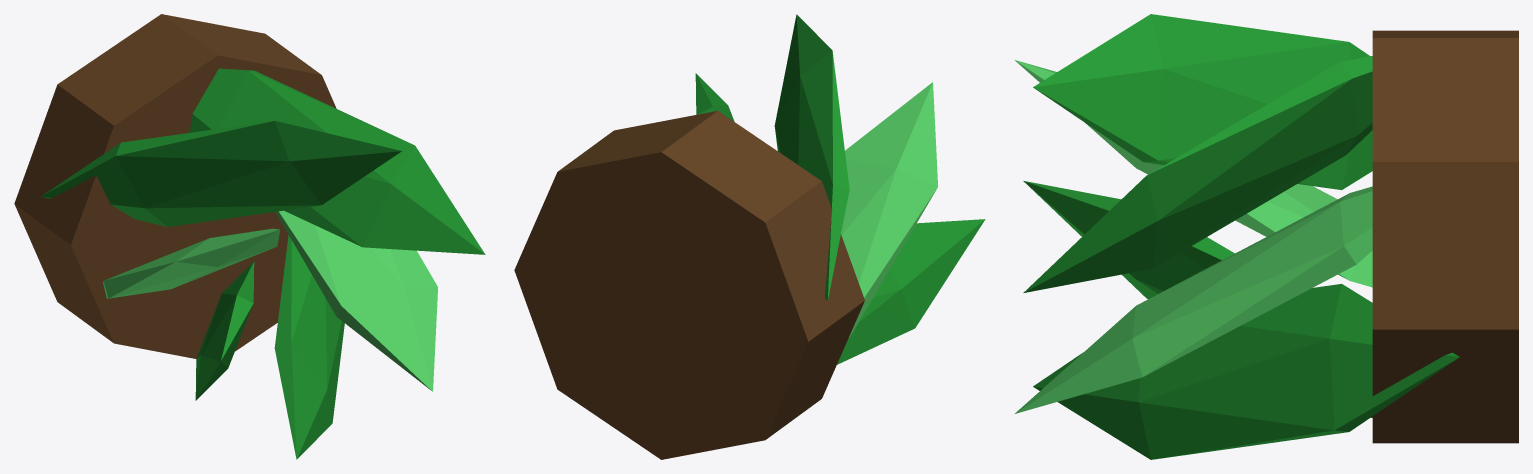
File: 2_sprouting.obj
The picture shows the model from 3 angles, left to right: view 1: azimuth 30°, elevation 25°; view 2: azimuth 150°, elevation 25°; view 3: azimuth 270°, elevation 25°; orthographic projection. The views are drawn at different scales.
Parts seen in each view (by area): view 1: guam_2_sprouting; view 2: guam_2_sprouting; view 3: guam_2_sprouting.
Part boxes in pixels (bbox=[...]): guam_2_sprouting: bbox=[14, 14, 485, 459]; guam_2_sprouting: bbox=[514, 14, 985, 459]; guam_2_sprouting: bbox=[1015, 14, 1518, 459].
Size of the model in its own units: 0.12 by 0.1235 by 0.138.
